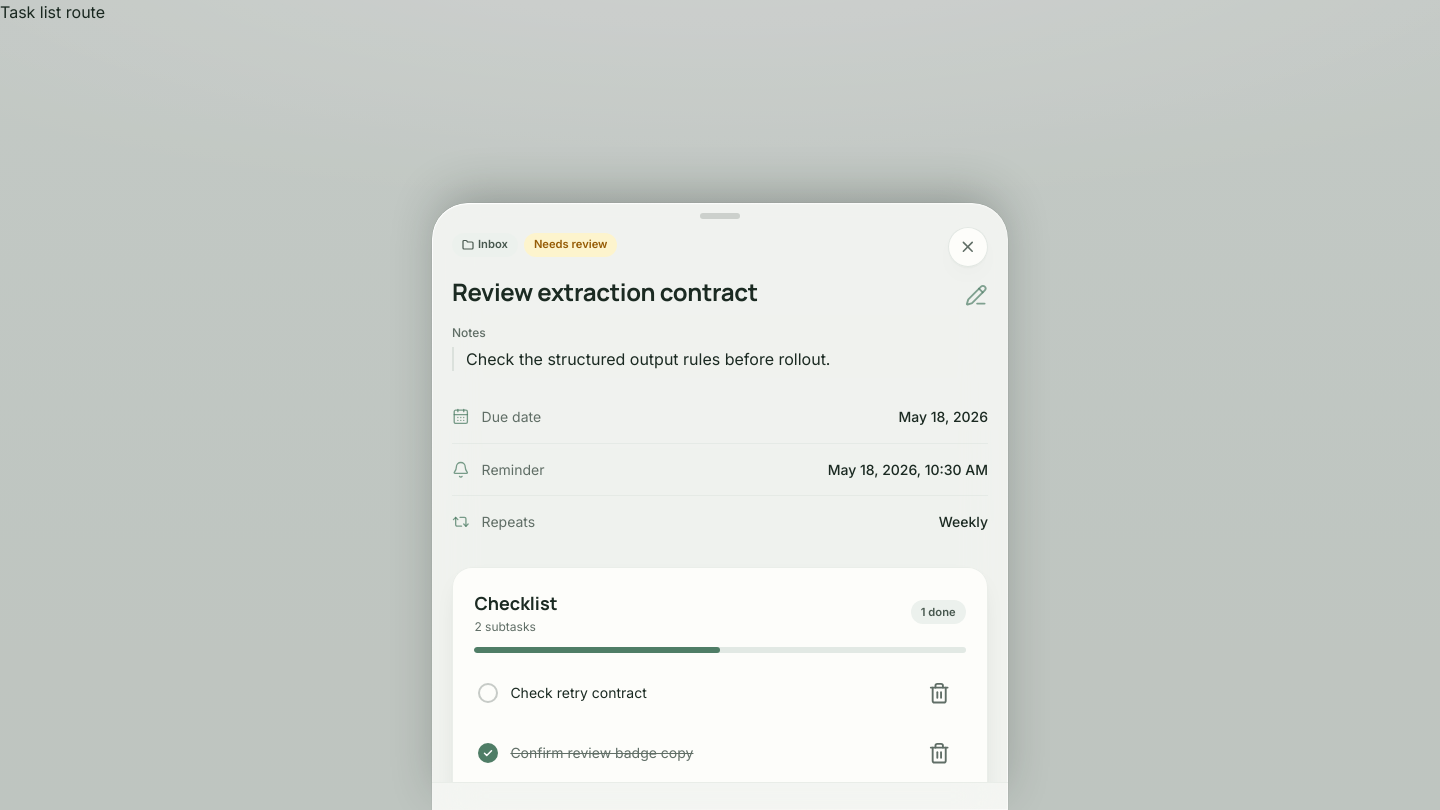
it: TaskPreviewModal › edits the title directly from the preview heading
The width and height of the screenshot is (1440, 810).
Step 1. Click the button named "Edit title" → (976, 294), box [958,276,994,312]
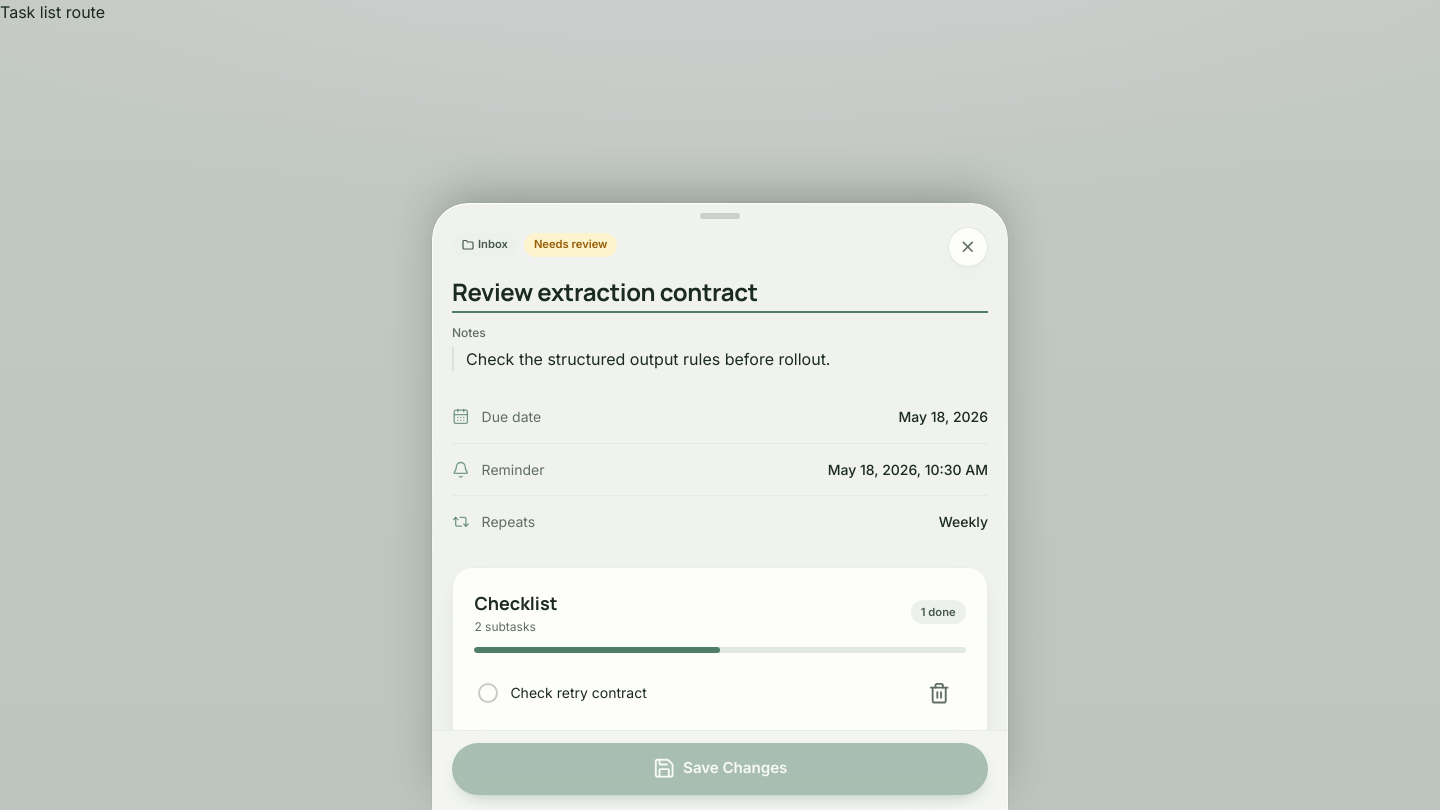
Check: the field named "Task title" holds "Review extraction contract", box [452,276,988,312]
Check: the button "Save Changes" is shown, box [452,742,988,794]
